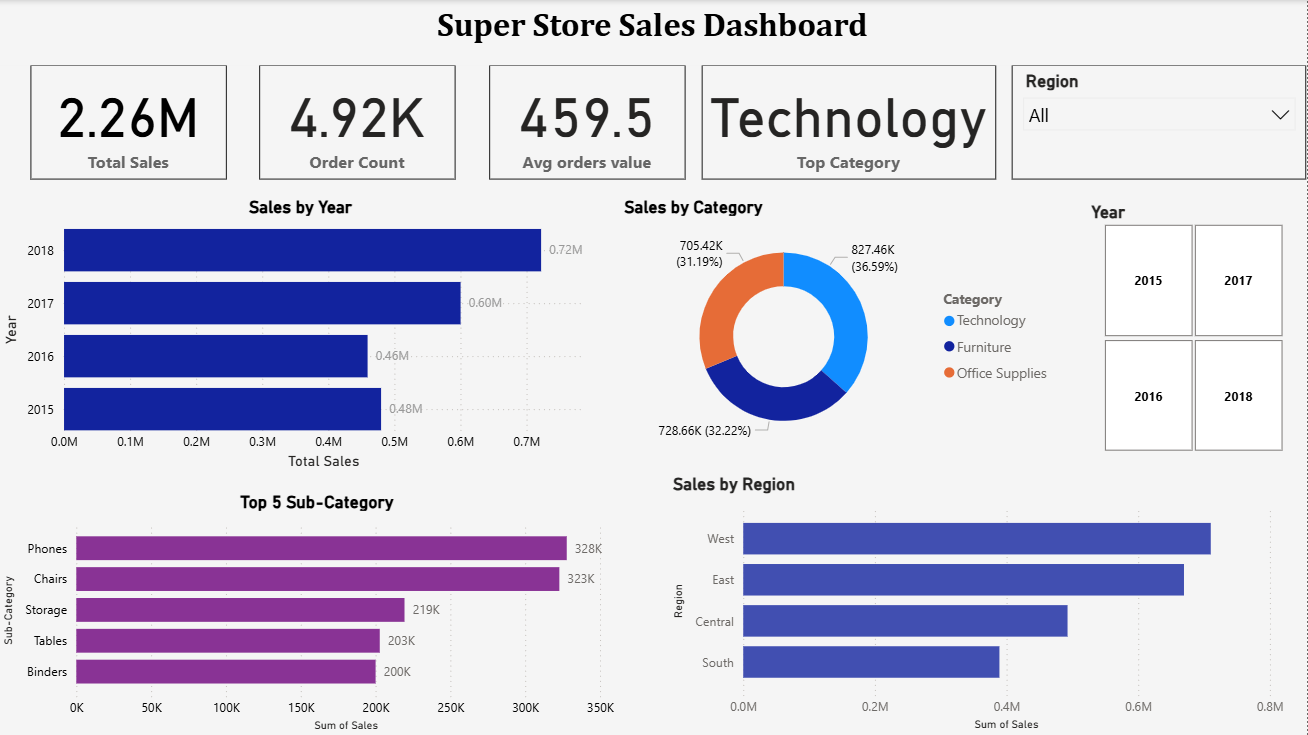

The page's visual inventory and layout, read from the dashboard file:
{"tool":"powerbi","page":{"name":"Dashboard","canvas":[1280,720],"ordinal":0},"visuals":[{"type":"card","fields":{"Values":["Measures .Total Sales"]},"box":[32,64,192,112],"z":0},{"type":"card","fields":{"Values":["Measures .Order Count"]},"box":[256,64,192,112],"z":1000},{"type":"clusteredBarChart","title":"Top 5 Sub-Category","fields":{"Y":["Sum(Orders_data.Sales)"],"Category":["Orders_data.Sub-Category"]},"box":[0,480,624,240],"z":2000},{"type":"card","fields":{"Values":["Measures .Avg orders value"]},"box":[480,64,192,112],"z":3000},{"type":"card","fields":{"Values":["Measures .Top Category"]},"box":[688,64,288,112],"z":4000},{"type":"clusteredBarChart","title":"Sales by Year","fields":{"Y":["Measures .Total Sales"],"Category":["Date.Year"]},"box":[0,192,592,272],"z":5000},{"type":"donutChart","title":"Sales by Category","fields":{"Category":["Orders_data.Category"],"Y":["Measures .Total Sales"]},"box":[608,192,432,256],"z":6000},{"type":"barChart","title":"Sales by Region","fields":{"Y":["Sum(Orders_data.Sales)"],"Category":["Orders_data.Region"]},"box":[656,464,608,256],"z":7000},{"type":"slicer","fields":{"Values":["Date.Year"]},"box":[1056,192,224,256],"z":8000},{"type":"slicer","fields":{"Values":["Orders_data.Region"]},"box":[992,64,288,112],"z":9000},{"type":"textbox","box":[0,0,1280,64],"z":10000}]}

Visuals, with their boxes in screenshot pixels (x1, y1, x2, y2), scaled from the page's 1280x720 canvas onto the 1308x735 screenshot:
card - Measures .Total Sales: locate(33, 65, 229, 180)
card - Measures .Order Count: locate(262, 65, 458, 180)
"Top 5 Sub-Category" clusteredBarChart: locate(0, 490, 638, 734)
card - Measures .Avg orders value: locate(491, 65, 687, 180)
card - Measures .Top Category: locate(703, 65, 997, 180)
"Sales by Year" clusteredBarChart: locate(0, 196, 605, 474)
"Sales by Category" donutChart: locate(621, 196, 1063, 457)
"Sales by Region" barChart: locate(670, 474, 1292, 734)
slicer - Date.Year: locate(1079, 196, 1307, 457)
slicer - Orders_data.Region: locate(1014, 65, 1307, 180)
textbox: locate(0, 0, 1307, 65)
